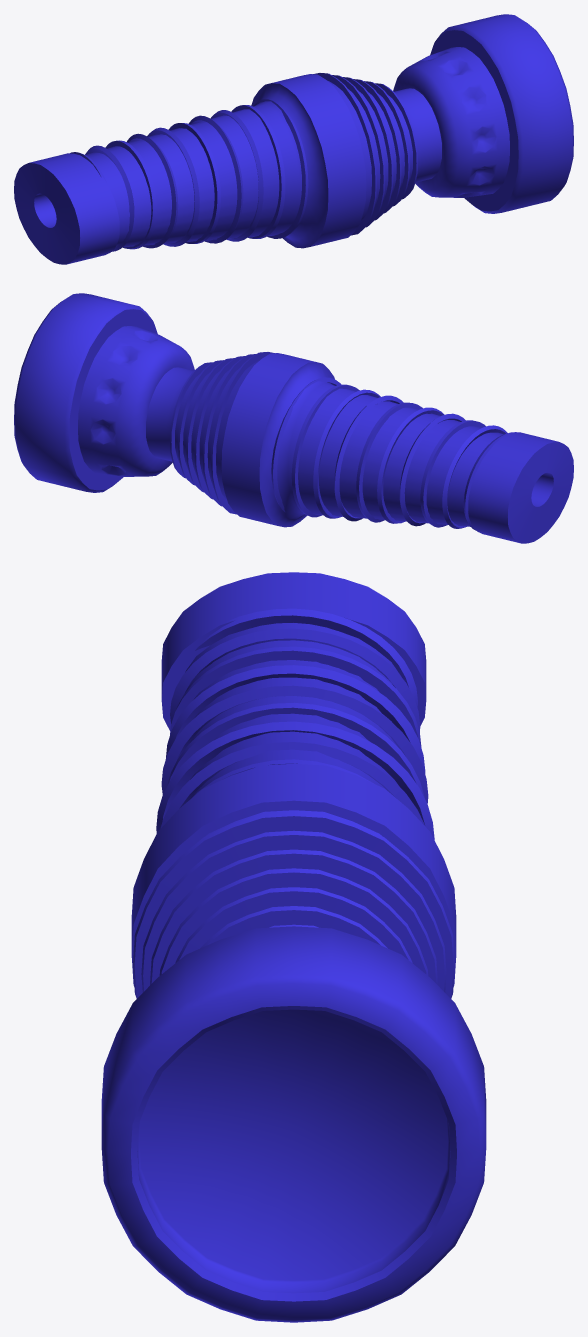
The model's file is WaterHand.fbx.
The picture shows the model from 3 angles, top to bottom: view 1: azimuth 30°, elevation 25°; view 2: azimuth 150°, elevation 25°; view 3: azimuth 270°, elevation 25°; orthographic projection. The views are drawn at different scales.
Visible parts, largest first — view 1: HandWater; view 2: HandWater; view 3: HandWater.
Part boxes in pixels (<box>): HandWater: <box>14,14,573,264</box>; HandWater: <box>14,293,573,543</box>; HandWater: <box>101,572,486,1322</box>.
Bounding box in the file's own units: 12.45 × 4.28 × 4.28.
